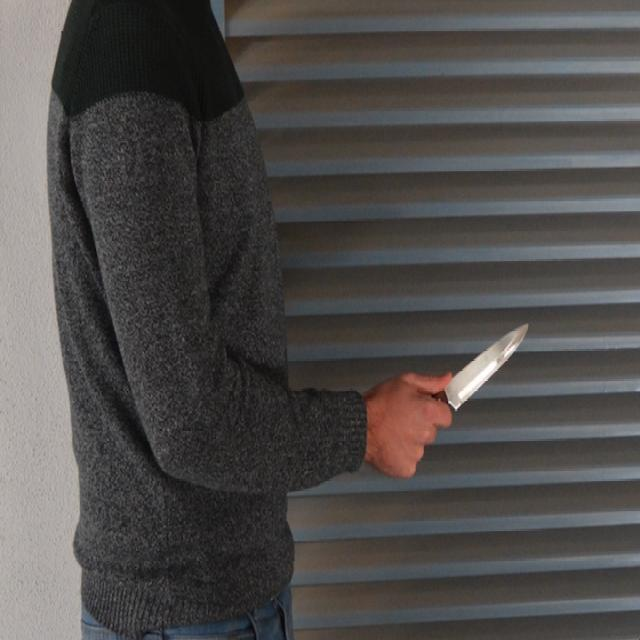suspicion: (89, 91, 538, 489), (427, 315, 532, 428)
